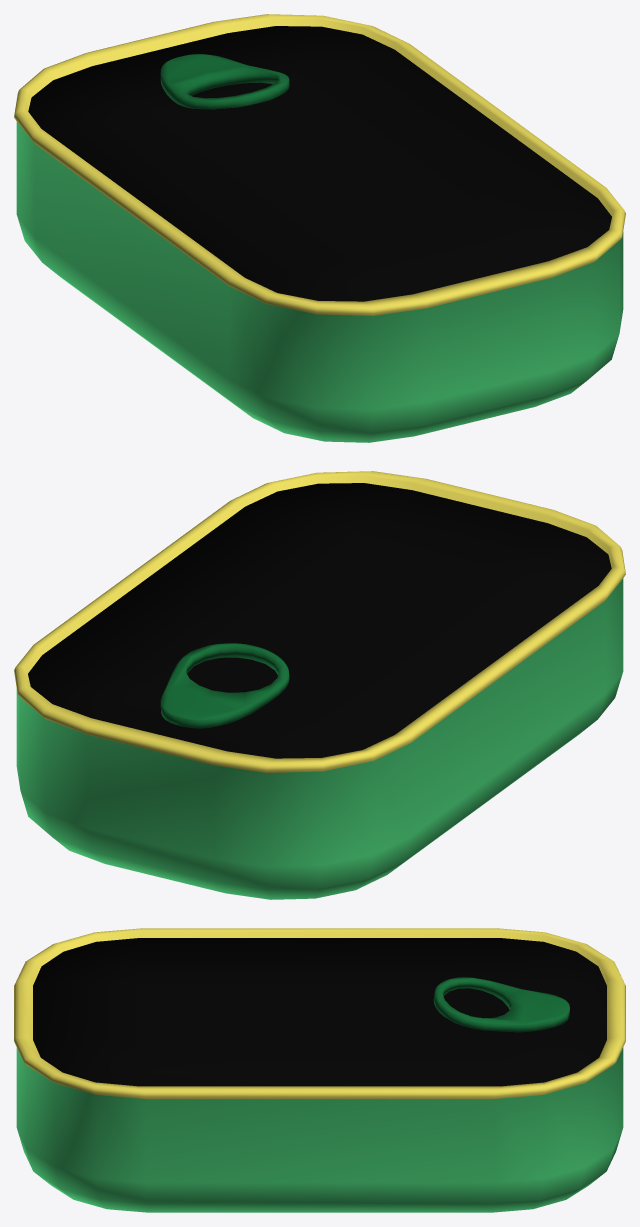
The model's file is F_Can_03.fbx.
The picture shows the model from 3 angles, top to bottom: view 1: azimuth 30°, elevation 25°; view 2: azimuth 150°, elevation 25°; view 3: azimuth 270°, elevation 25°; orthographic projection. The views are drawn at different scales.
Parts seen in each view (by area): view 1: F_Lid_02.002, F_Can_03; view 2: F_Lid_02.002, F_Can_03; view 3: F_Can_03, F_Lid_02.002.
Boxes of the visible parts, left/top/right/bottom form: F_Lid_02.002: left=28, top=26, right=611, bottom=301; F_Can_03: left=14, top=14, right=625, bottom=442; F_Lid_02.002: left=28, top=483, right=611, bottom=758; F_Can_03: left=14, top=471, right=625, bottom=899; F_Can_03: left=14, top=928, right=625, bottom=1212; F_Lid_02.002: left=33, top=938, right=606, bottom=1086.
Size of the model in its own units: 6.78 by 2.96 by 10.58.
